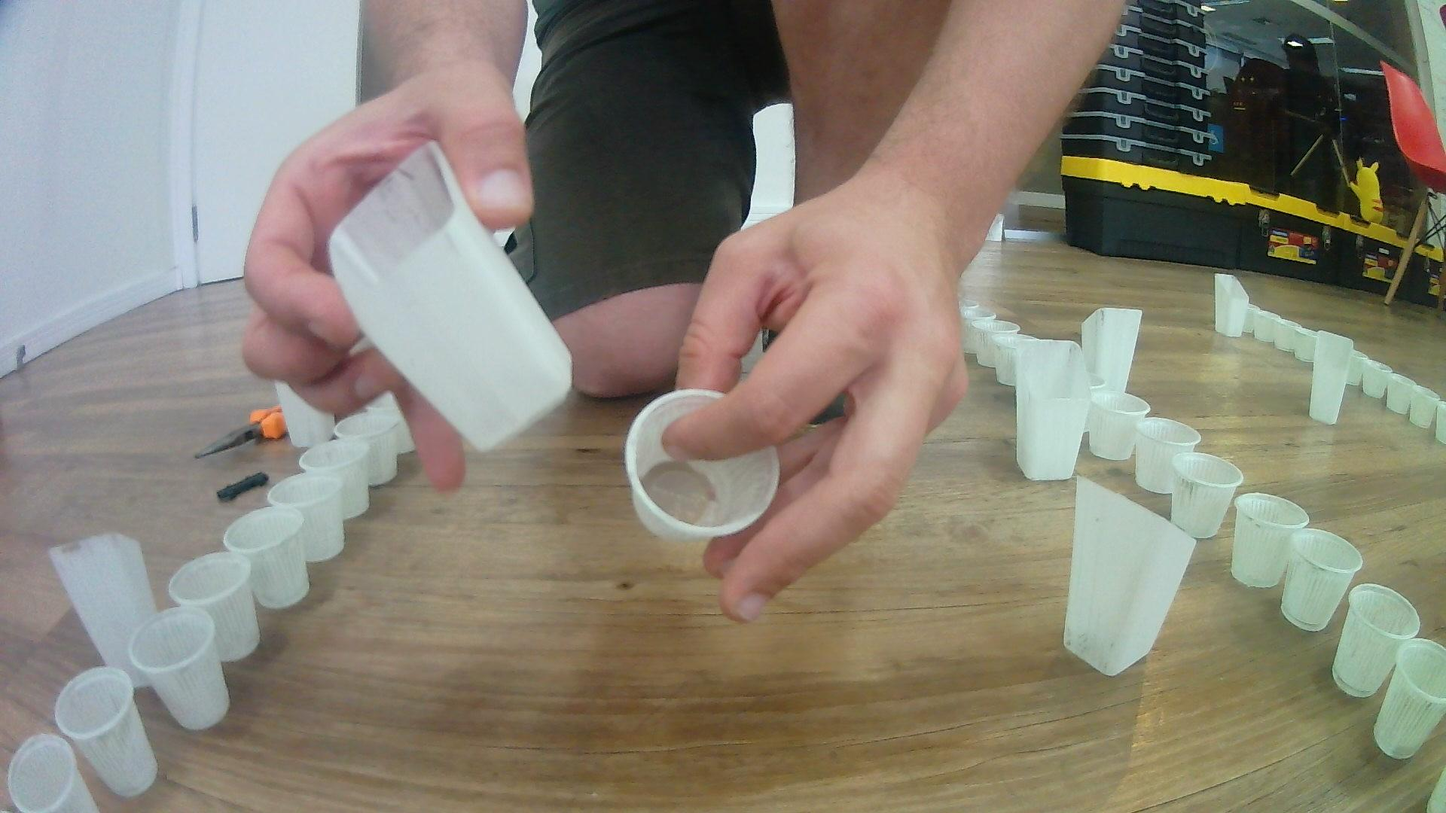erva_daninha: (325, 142, 575, 454), (1061, 474, 1200, 678), (47, 533, 163, 690), (1014, 338, 1093, 480), (1079, 306, 1143, 397), (273, 374, 337, 450), (1308, 330, 1356, 425), (1213, 273, 1252, 338)
planta: (622, 388, 781, 546), (53, 666, 159, 798), (127, 606, 230, 732), (166, 551, 262, 663), (1331, 583, 1420, 699), (222, 507, 311, 610), (1373, 638, 1446, 761), (1279, 528, 1363, 632), (1230, 492, 1310, 589), (5, 733, 100, 813), (267, 472, 346, 564), (1169, 452, 1244, 540), (299, 437, 371, 522), (1133, 416, 1201, 495), (334, 413, 399, 488), (1087, 391, 1152, 461), (361, 390, 416, 455), (992, 334, 1040, 387), (970, 320, 1020, 368), (962, 308, 997, 354), (1410, 386, 1441, 428), (1244, 303, 1274, 343), (1363, 359, 1393, 399), (1385, 373, 1414, 414), (1289, 325, 1319, 363), (1346, 349, 1373, 387), (1268, 315, 1295, 352), (956, 297, 980, 337), (1434, 400, 1446, 445), (1084, 369, 1106, 393)
